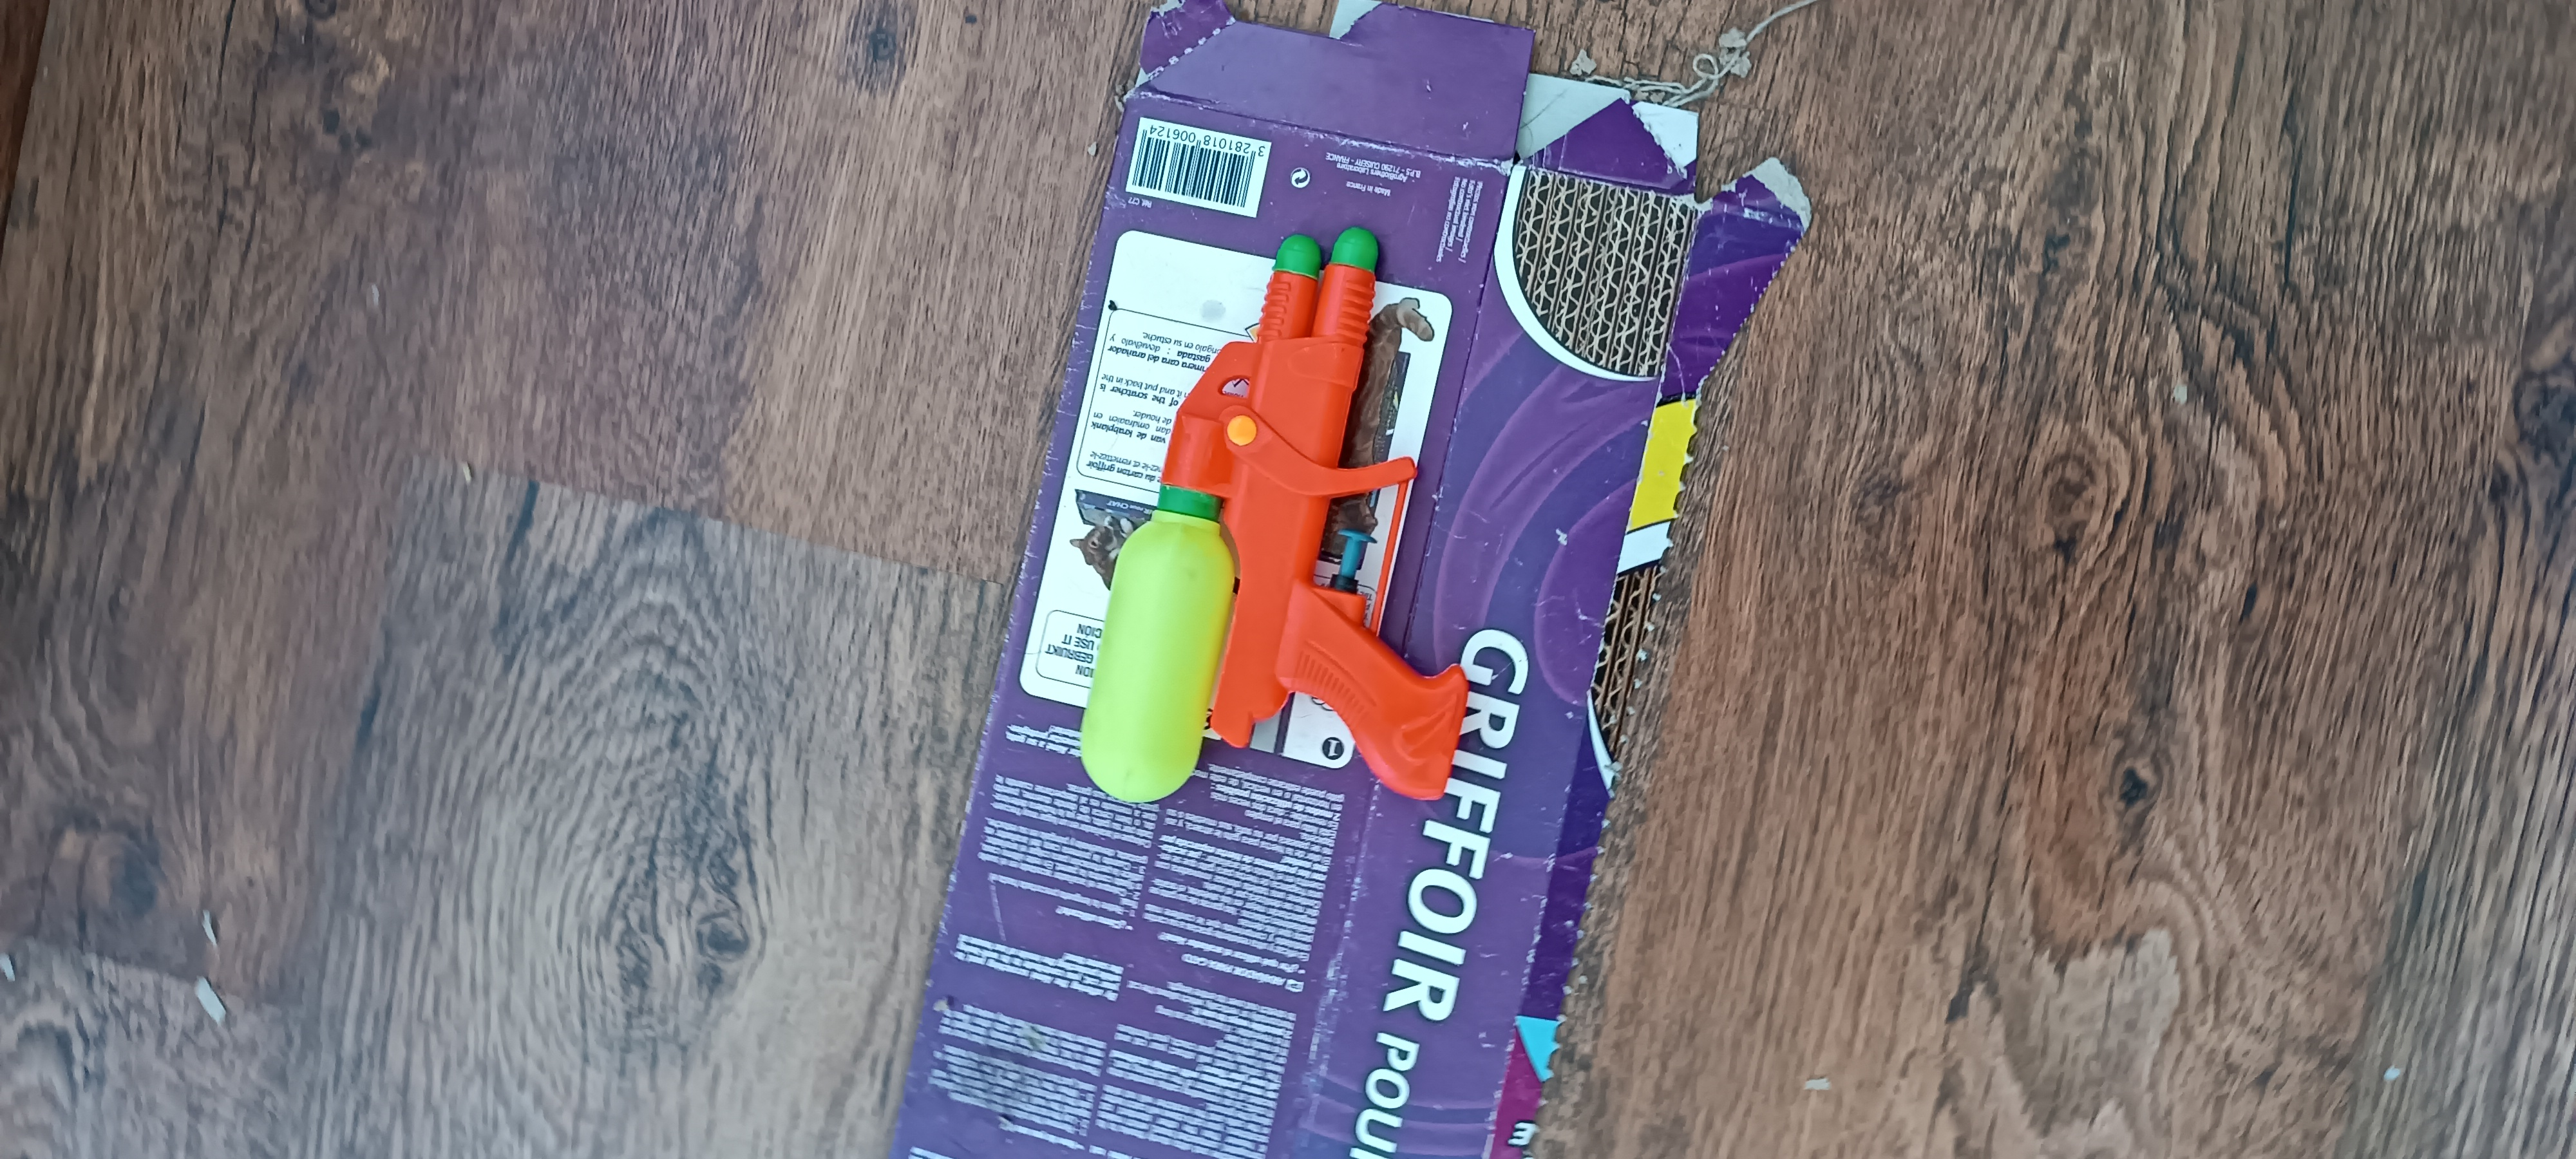Water Gun: (1079, 227, 1474, 803)
